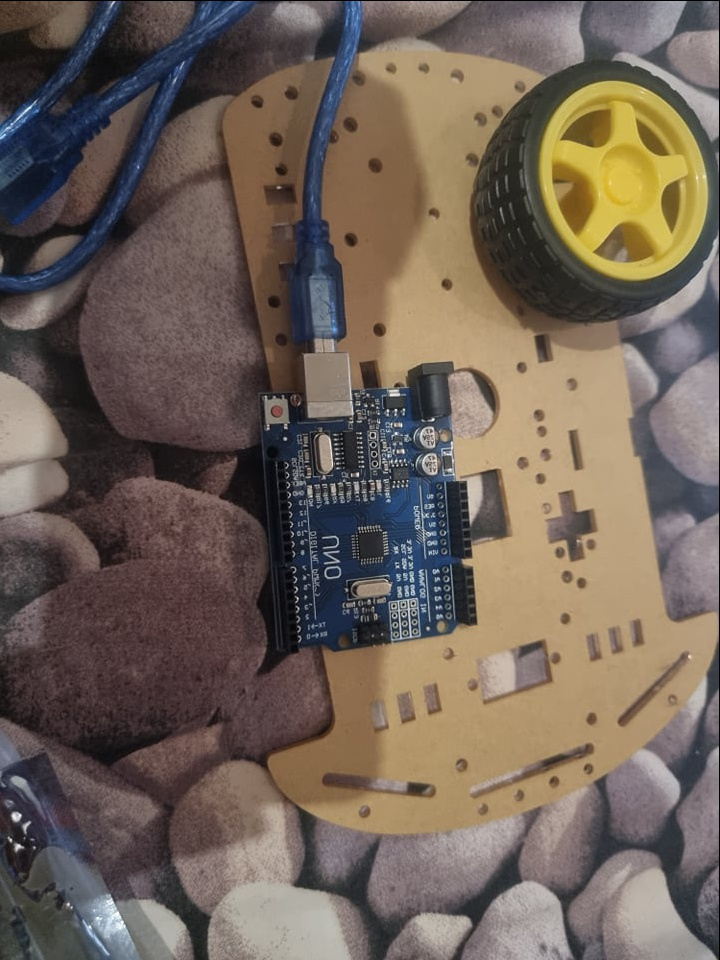UNO R3: (261, 349, 479, 654)
